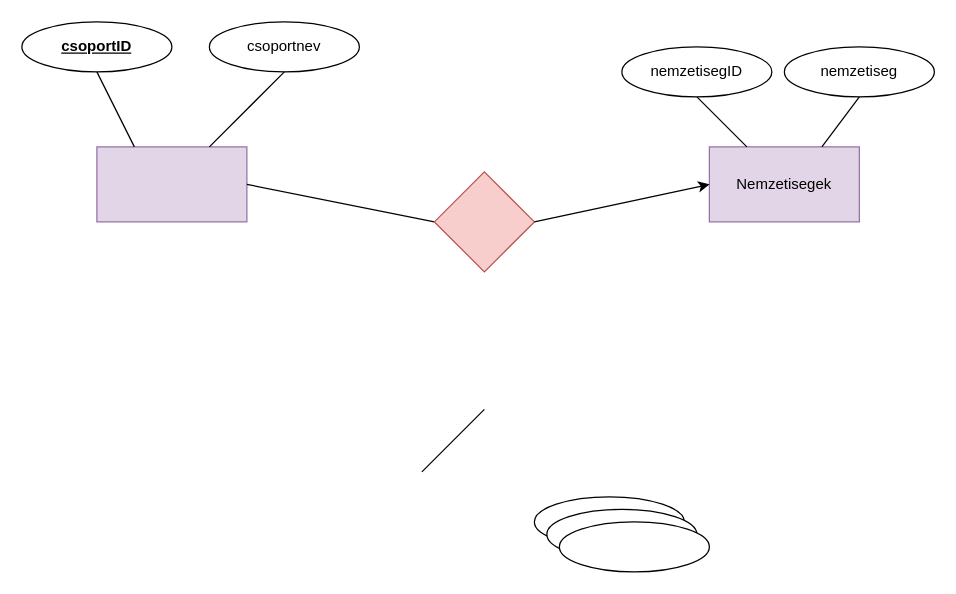
The diagram is 956 pixels wide and 594 high, and some of its shapes have lost their labels. Here are the shapes that lost their labels. From the top down, the centre of each, then its label:
At (171,184): "TancCsoportok".
At (483,221): "Nemzet".
